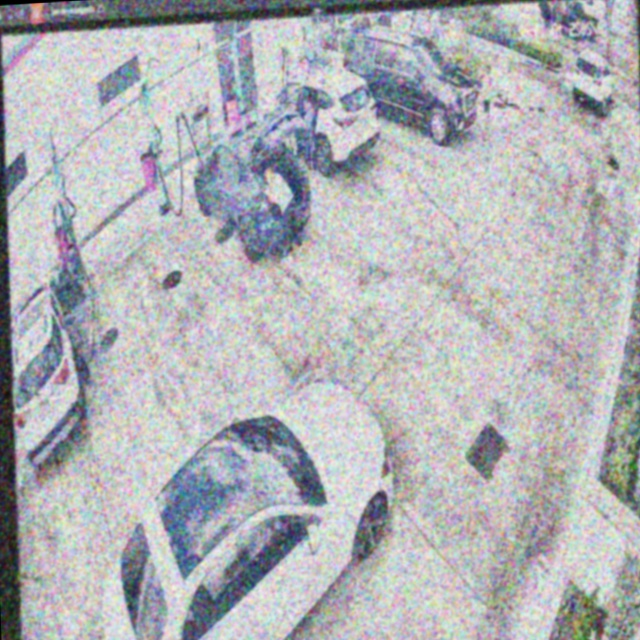Car: (94, 380, 402, 640), (190, 111, 312, 256), (256, 61, 380, 178)
